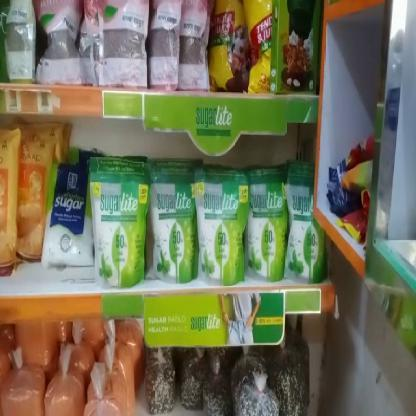SUGARLITE POUCH 500G: (90, 163, 146, 292), (195, 178, 245, 288), (152, 172, 194, 284), (244, 169, 286, 278), (284, 172, 320, 288)
